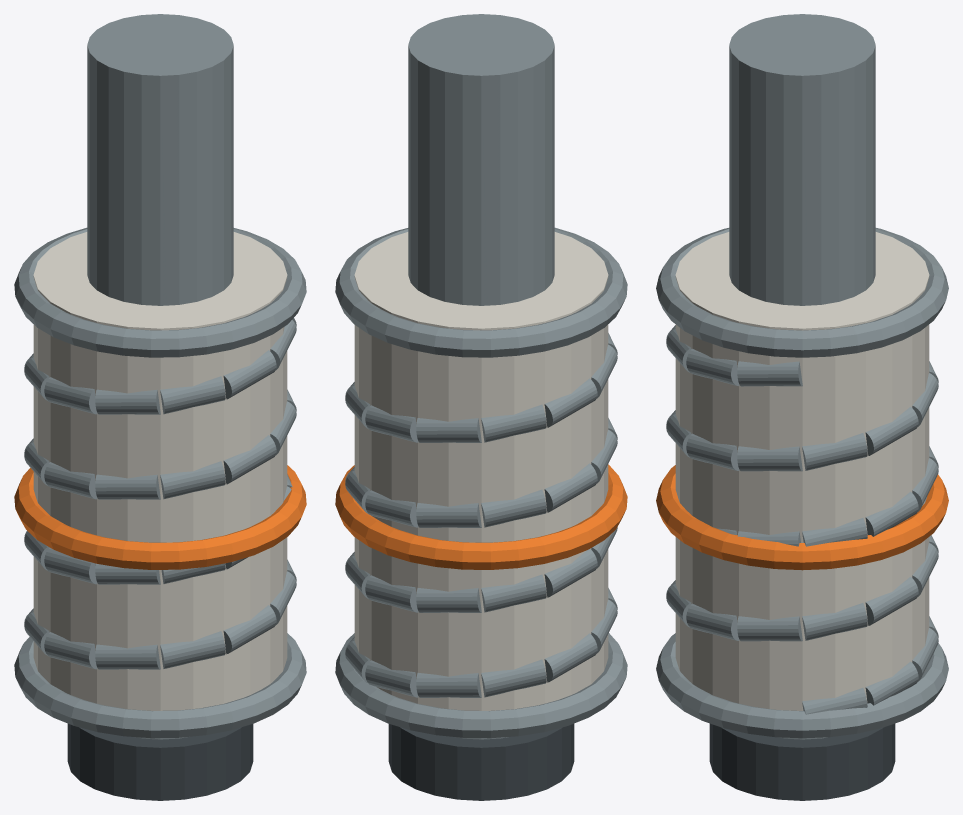
The model's file is SM_UraniumMine_Drill.fbx.
3 renders of one model, left to right at view 1: azimuth 30°, elevation 25°; view 2: azimuth 150°, elevation 25°; view 3: azimuth 270°, elevation 25°, orthographic.
Visible parts, largest first — view 1: SM_UraniumMine_Drill; view 2: SM_UraniumMine_Drill; view 3: SM_UraniumMine_Drill.
Boxes of the visible parts, left/top/right/bottom form: SM_UraniumMine_Drill: left=14, top=14, right=306, bottom=800; SM_UraniumMine_Drill: left=335, top=14, right=627, bottom=800; SM_UraniumMine_Drill: left=656, top=14, right=948, bottom=800.
Bounding box in the file's own units: 60 × 60 × 162.
